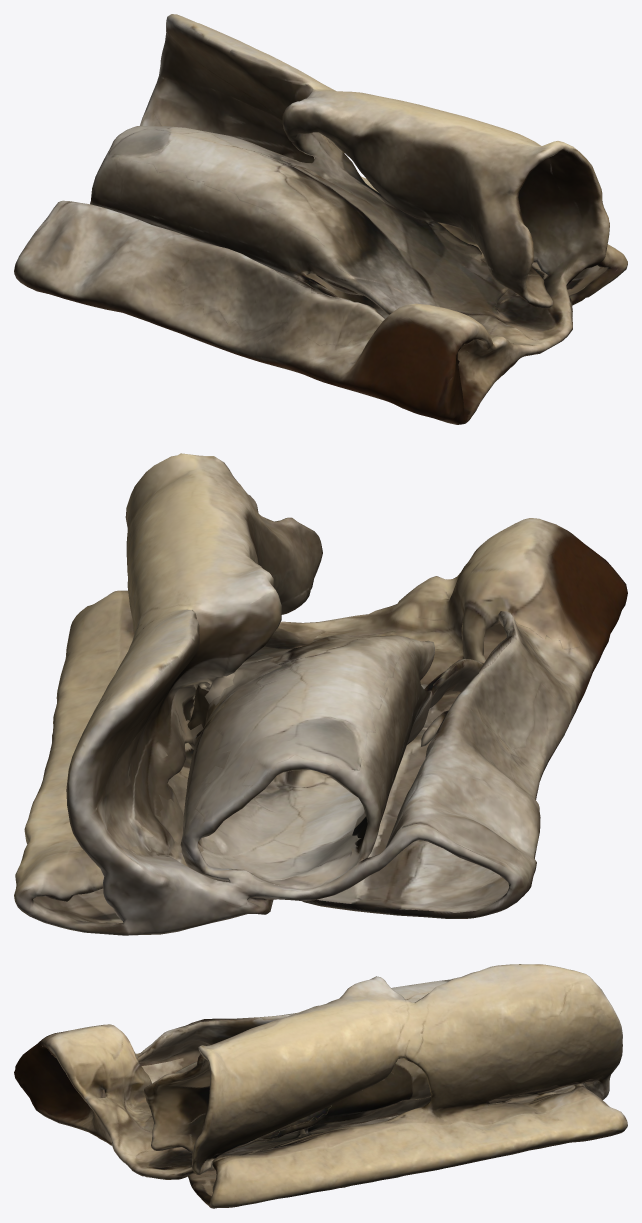
File: ceramic_sculpture.glb
3 renders of one model, top to bottom at view 1: azimuth 30°, elevation 25°; view 2: azimuth 150°, elevation 25°; view 3: azimuth 270°, elevation 25°, orthographic. The views are drawn at different scales.
Size of the model in its own units: 1.54 by 0.5744 by 2.
Materials: 1 (1 with a texture image).
